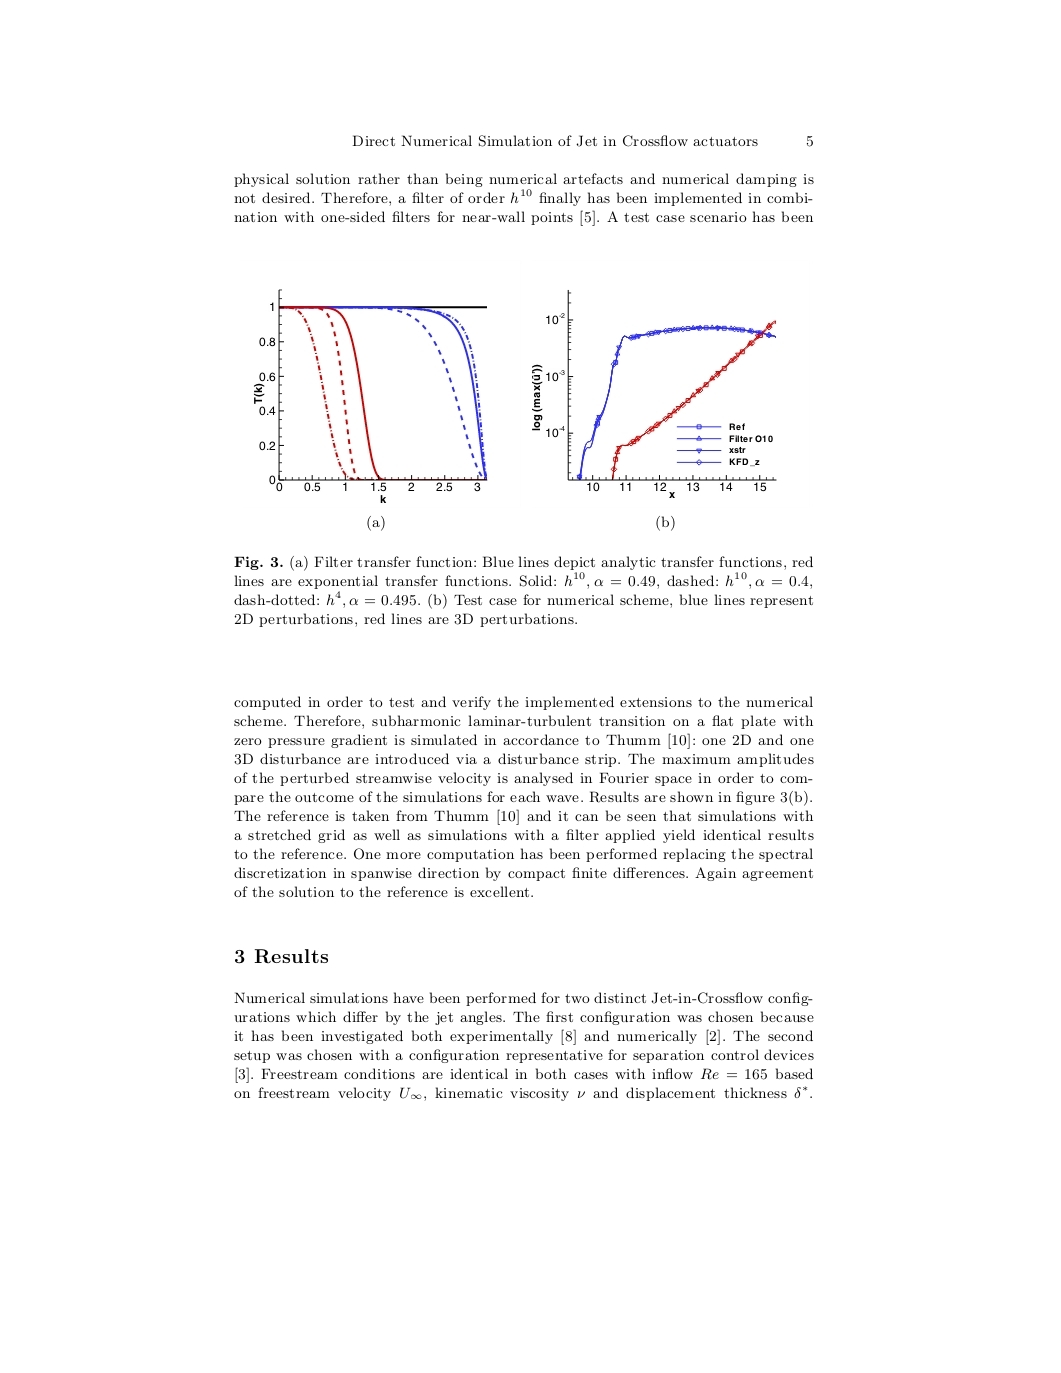figure: (532, 289, 776, 498), (254, 289, 487, 502)
